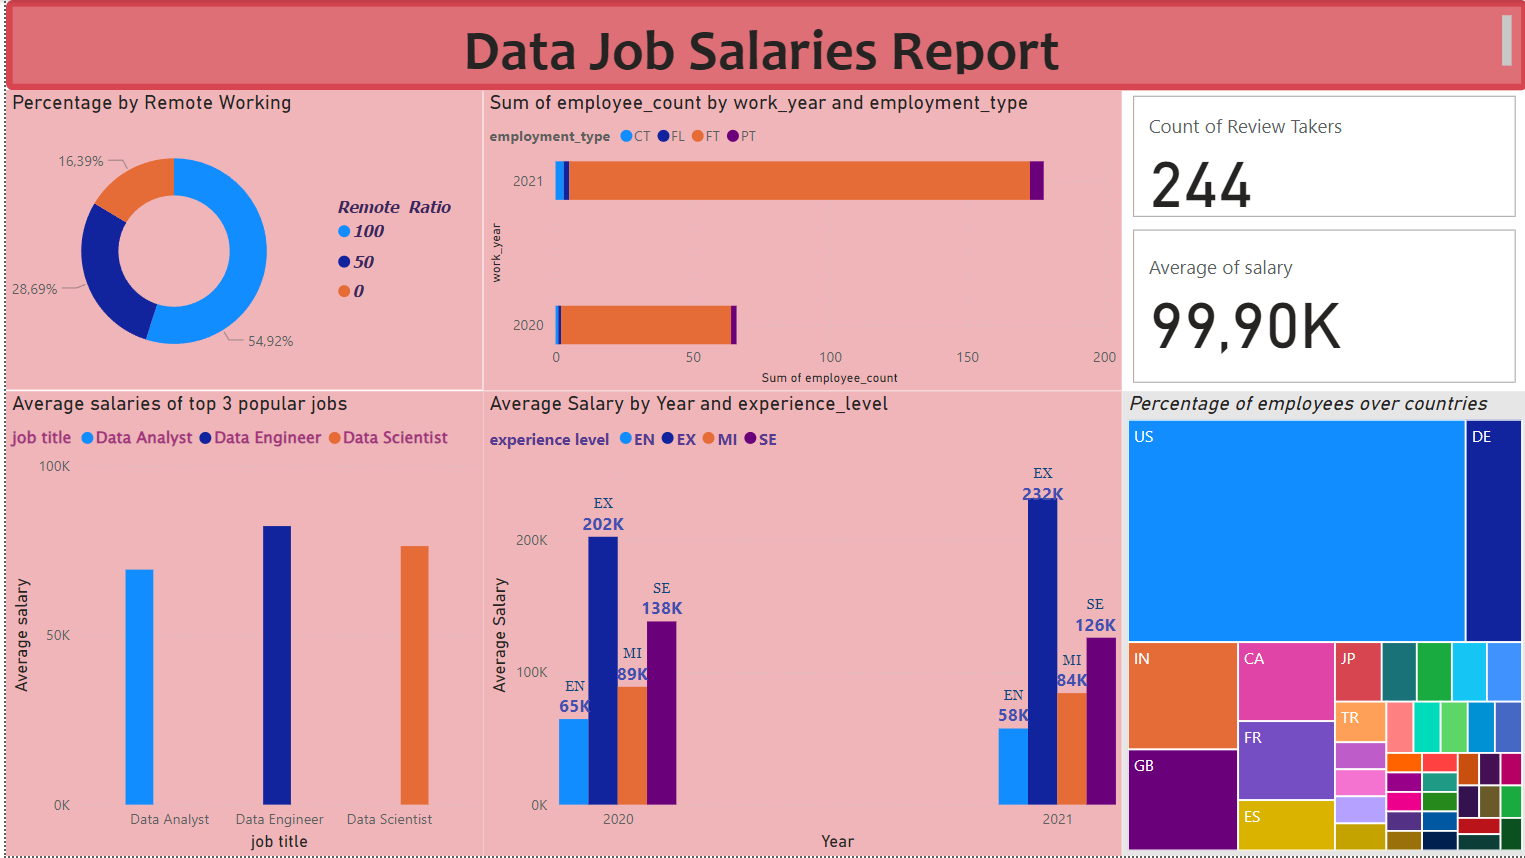

The page's visual inventory and layout, read from the dashboard file:
{"tool":"powerbi","page":{"name":"Page 1","canvas":[1280,720],"ordinal":0},"visuals":[{"type":"textbox","box":[0,0,1280,75.7],"z":0},{"type":"clusteredColumnChart","title":"Average salaries of top 3 popular jobs","fields":{"Category":["public top_3_popular_datajob.job_title","public top_3_popular_datajob.experience_level"],"Y":["Avg(public top_3_popular_datajob.salary_in_usd)"],"Series":["public top_3_popular_datajob.job_title"]},"box":[0,328.6,401.4,391.4],"z":1000},{"type":"clusteredColumnChart","fields":{"Category":["public avg_salary.work_year"],"Series":["public avg_salary.experience_level"],"Y":["Sum(public avg_salary.avg)"]},"box":[401.4,328.6,537.1,391.4],"z":2000},{"type":"donutChart","title":"Percentage  by Remote Working","fields":{"Category":["public remote_work.remote_ratio"],"Y":["Divide(Sum(public remote_work.count), ScopedEval(Sum(public remote_work.count), []))"]},"box":[0,75.6,401.1,252.2],"z":3000},{"type":"barChart","fields":{"Category":["public num_employees.work_year"],"Series":["public num_employees.employment_type"],"Y":["Sum(public num_employees.employee_count)"]},"box":[401.4,75.7,537.1,252.9],"z":4000},{"type":"cardVisual","fields":{"Data":["CountNonNull(public data_job_salary.employee_residence)"]},"box":[942.7,75.5,332.1,112.5],"z":5000},{"type":"cardVisual","fields":{"Data":["Avg(public data_job_salary.salary_in_usd)"]},"box":[942.7,188,332.1,140],"z":6000},{"type":"treemap","title":"Percentage of employees over countries","fields":{"Group":["public company_location.company_location"],"Values":["Divide(Sum(public company_location.count), ScopedEval(Sum(public company_location.count), []))"]},"box":[938.6,328.6,341.4,391.4],"z":7000}]}

Visuals, with their boxes in screenshot pixels (x1, y1, x2, y2), scaled from the page's 1280x720 canvas onto the 1525x858 screenshot:
textbox: select_region(0, 0, 1524, 90)
"Average salaries of top 3 popular jobs" clusteredColumnChart: select_region(0, 392, 478, 857)
clusteredColumnChart - public avg_salary.work_year x public avg_salary.experience_level: select_region(478, 392, 1118, 857)
"Percentage  by Remote Working" donutChart: select_region(0, 90, 478, 391)
barChart - public num_employees.work_year x public num_employees.employment_type: select_region(478, 90, 1118, 392)
cardVisual - CountNonNull(public data_job_salary.employee_residence): select_region(1123, 90, 1519, 224)
cardVisual - Avg(public data_job_salary.salary_in_usd): select_region(1123, 224, 1519, 391)
"Percentage of employees over countries" treemap: select_region(1118, 392, 1524, 857)
